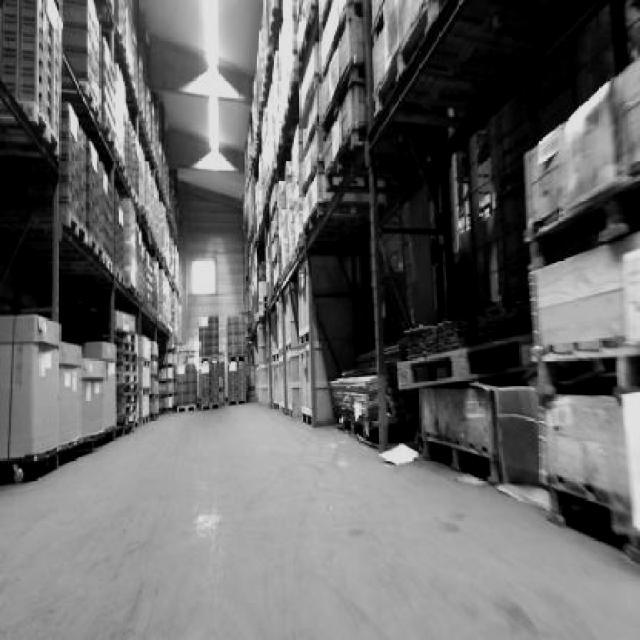pallet: (393, 323, 535, 392), (401, 444, 509, 484)
